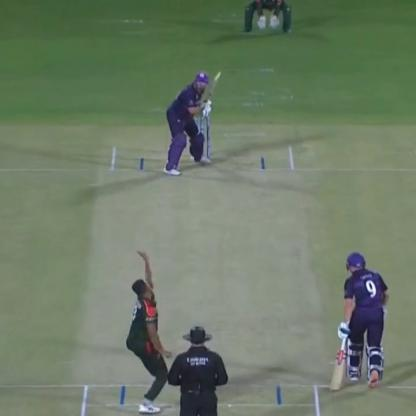bat: (326, 334, 352, 393), (201, 70, 223, 122)
pitch: (76, 145, 327, 416)
